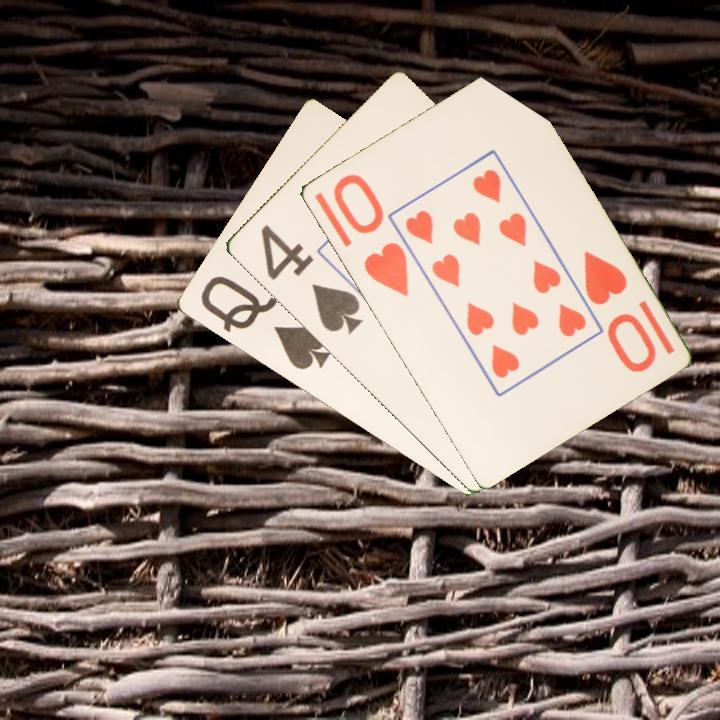10h: (329, 170, 411, 300), (579, 246, 659, 376)
4s: (256, 221, 365, 337)
Qs: (196, 272, 333, 374)
